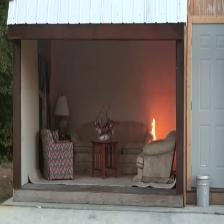fire: (149, 117, 158, 142)
